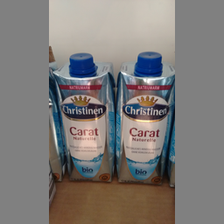water: (52, 52, 114, 184), (113, 52, 174, 184)
